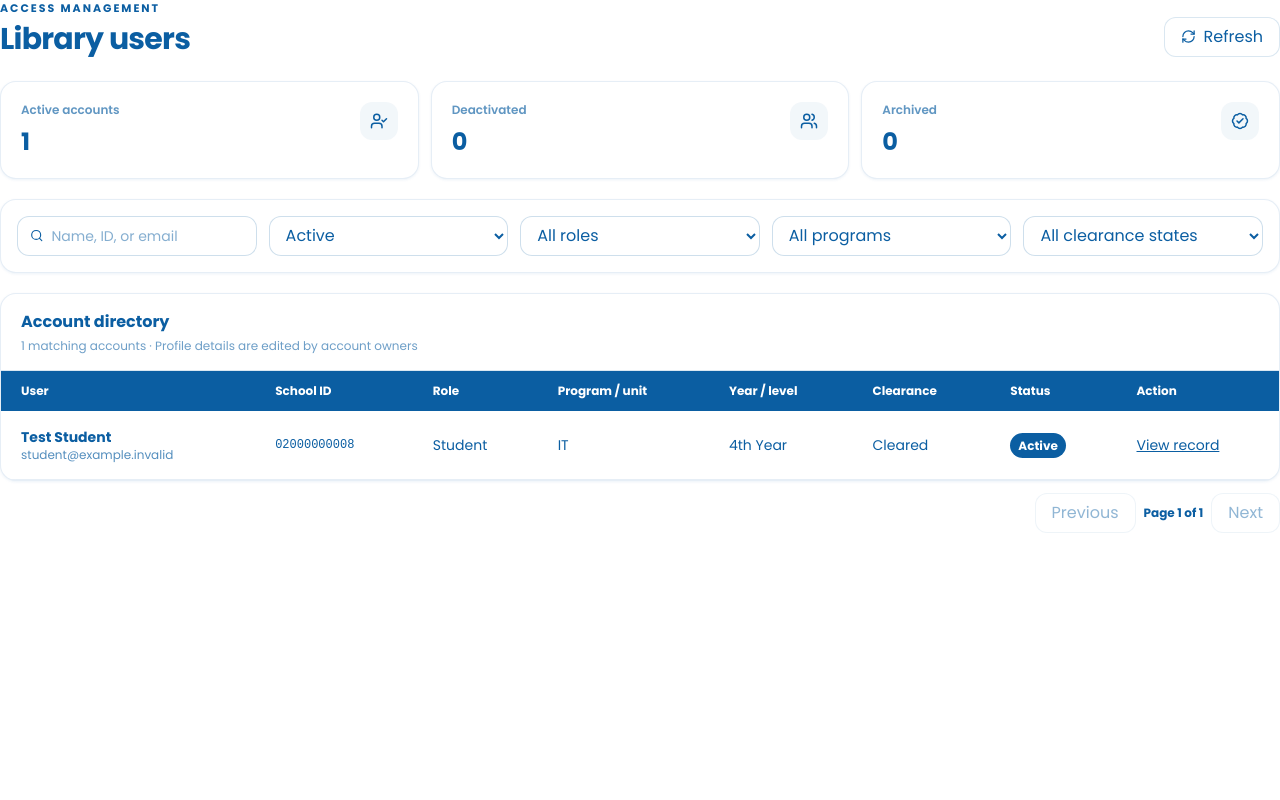
Test case: AdminUsersPage › keeps Librarian accounts view-only for status changes
Click the button "View record".
click(1178, 444)  # box [1136, 434, 1219, 454]
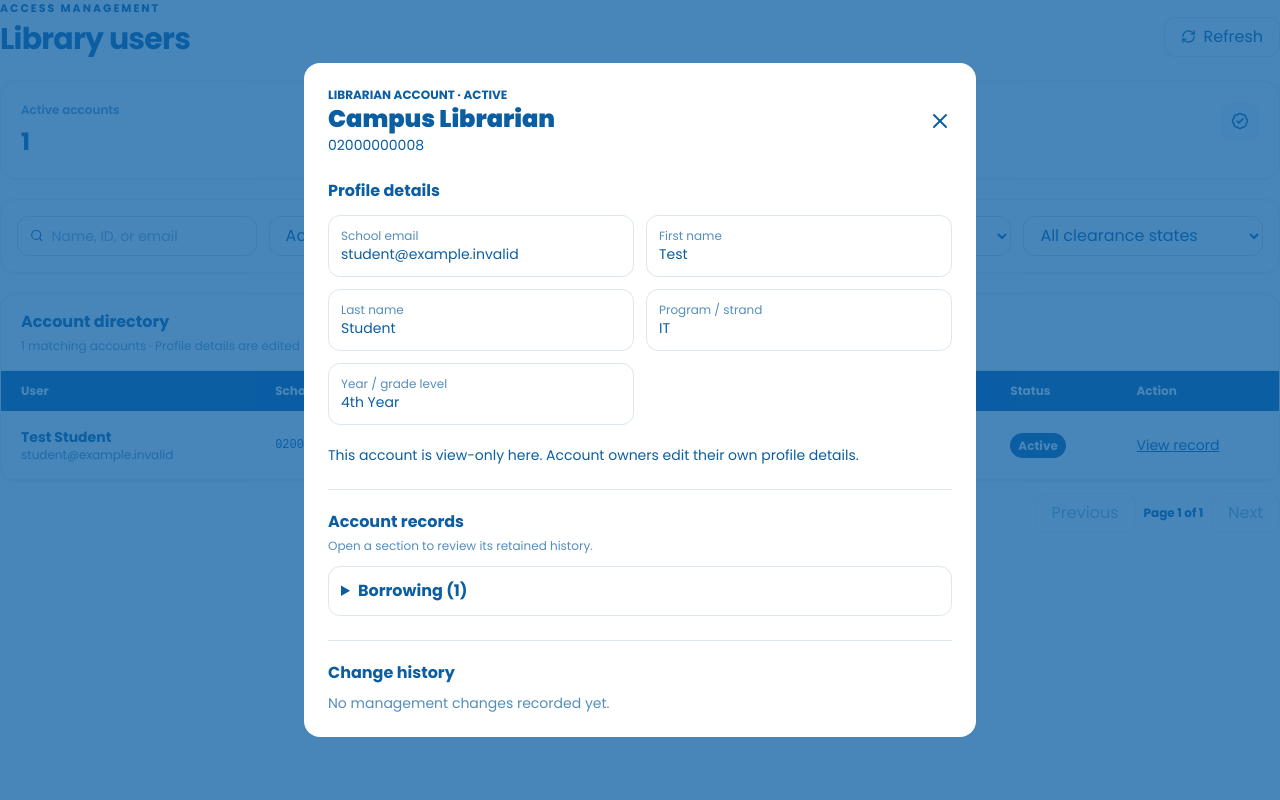
Expected: the dialog named "Account record" is shown, [304, 63, 976, 737]
